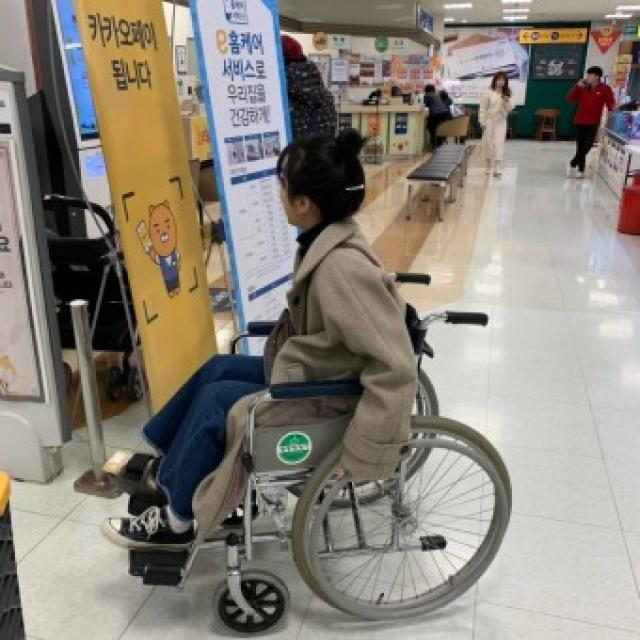wheelchair: (105, 127, 513, 633)
